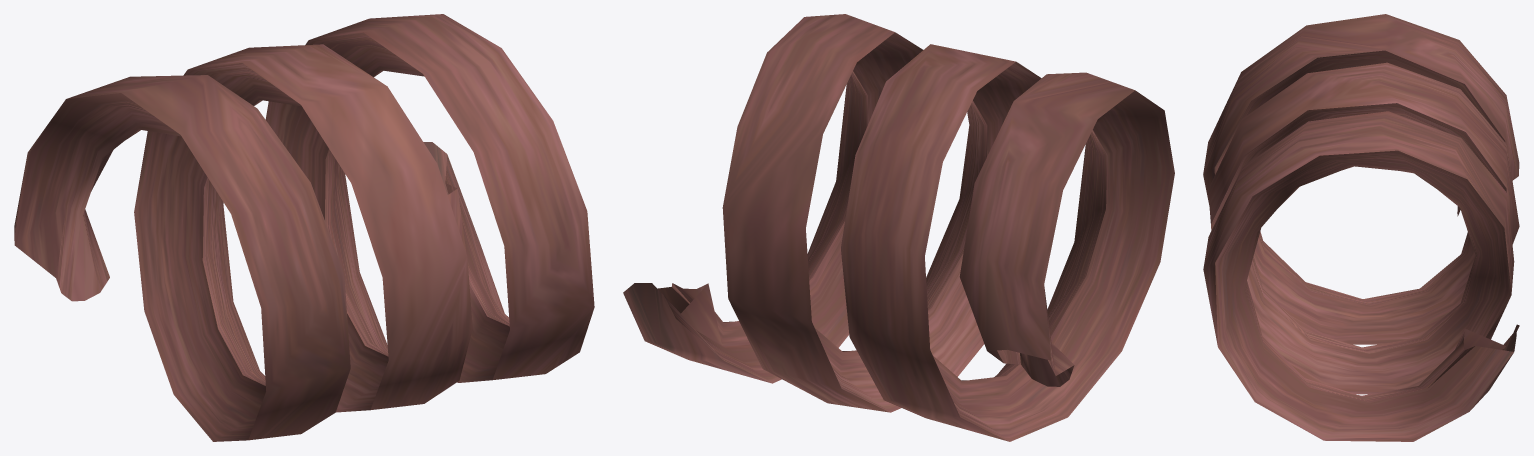
The model's file is Spring_Relic.fbx.
3 renders of one model, left to right at view 1: azimuth 30°, elevation 25°; view 2: azimuth 150°, elevation 25°; view 3: azimuth 270°, elevation 25°, orthographic. The views are drawn at different scales.
Parts seen in each view (by area): view 1: Relic_CD; view 2: Relic_CD; view 3: Relic_CD.
Part boxes in pixels (x1,y1,x2,y2): Relic_CD: (14, 14, 594, 441); Relic_CD: (623, 14, 1174, 441); Relic_CD: (1203, 14, 1519, 441).
Bounding box in the file's own units: 0.9215 × 0.7013 × 0.7023.
1 material, 1 textured.
